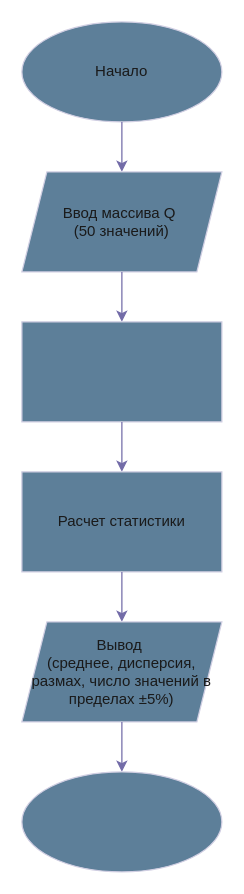
This 244x894 diagram has some shape labels left out. Each missing label, with the centre of its shape:
"Выборка значений (индексы с 6 по 29)" goes at pixel 121 371.
"Конец" goes at pixel 121 821.
